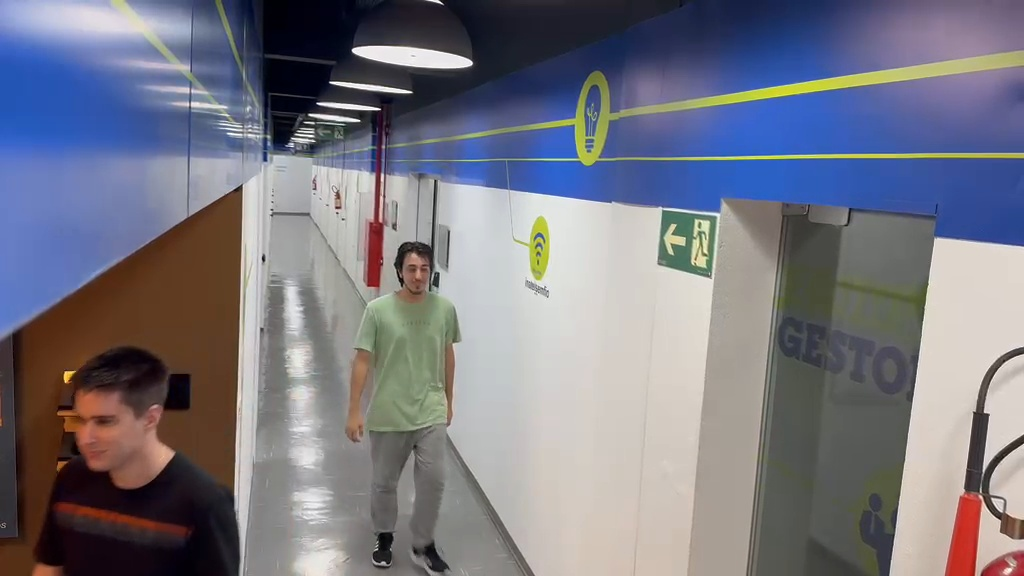person: (31, 344, 241, 571), (344, 238, 460, 573)
